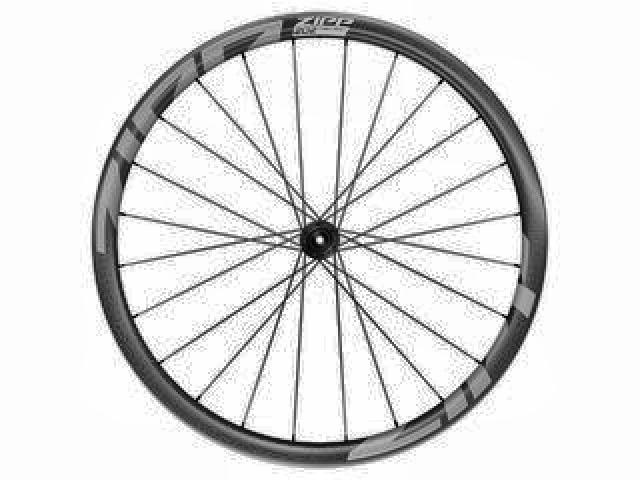wheel: (86, 8, 551, 470)
